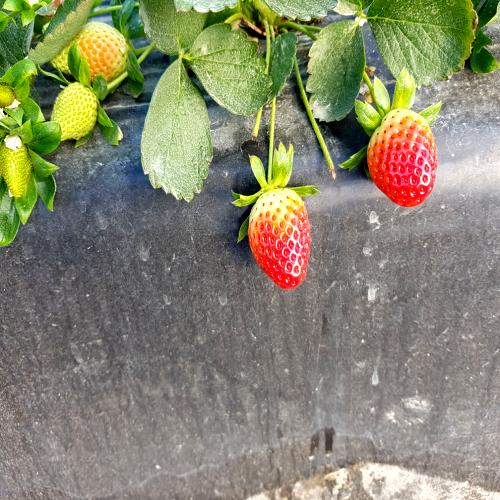partially-ripe: (245, 178, 317, 305), (370, 99, 442, 223)
